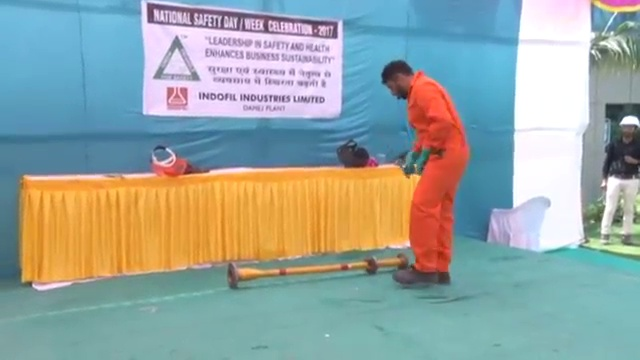helmet: (616, 114, 640, 129)
helmet_off: (378, 59, 413, 100)
helmet_on: (616, 114, 640, 145)
person: (373, 58, 471, 288), (596, 111, 640, 247)
